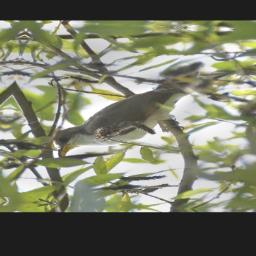Cuckoo: (48, 48, 256, 167)
